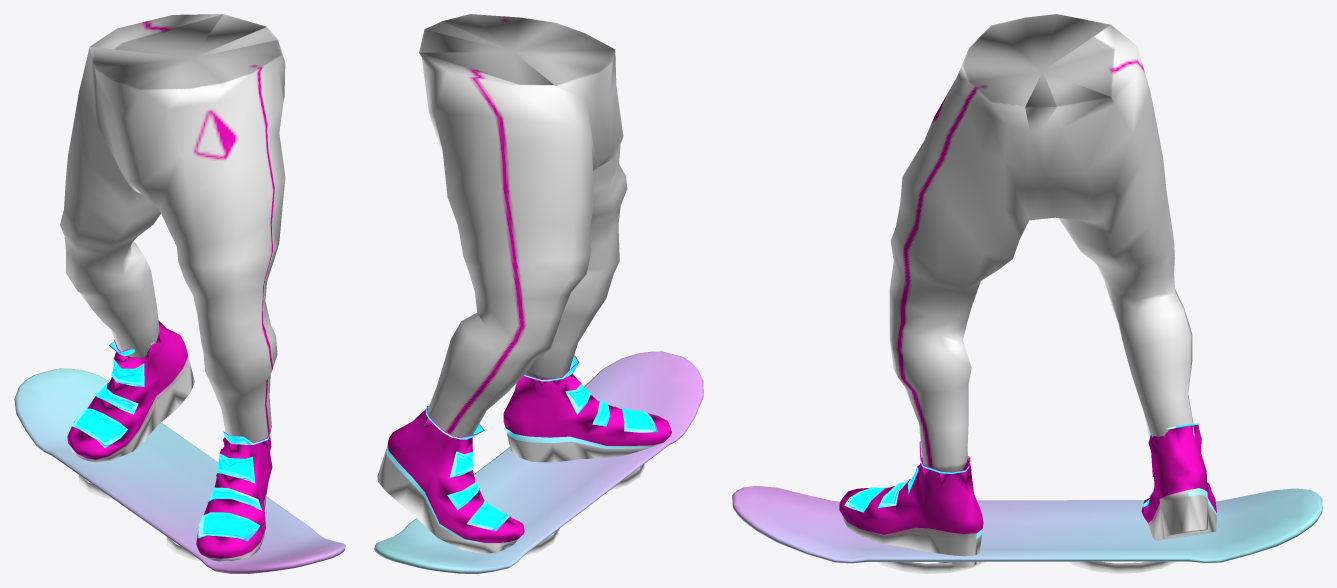
File: Skate_Man_B.glb
The picture shows the model from 3 angles, left to right: view 1: azimuth 30°, elevation 25°; view 2: azimuth 150°, elevation 25°; view 3: azimuth 270°, elevation 25°; orthographic projection. The views are drawn at different scales.
Parts seen in each view (by area): view 1: Lengg.001; view 2: Lengg.001; view 3: Lengg.001.
Part boxes in pixels (<box>): Lengg.001: <box>14,14,345,573</box>; Lengg.001: <box>374,14,703,573</box>; Lengg.001: <box>732,14,1322,573</box>.
Size of what is drawn, in the model's own units: 0.3665 by 0.8779 by 0.9484.
Materials: 1 (1 with a texture image).
